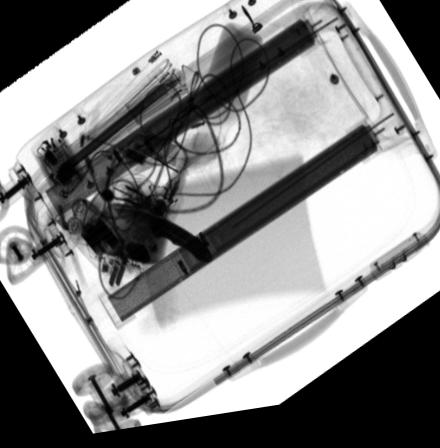Knife: (110, 205, 212, 270)
